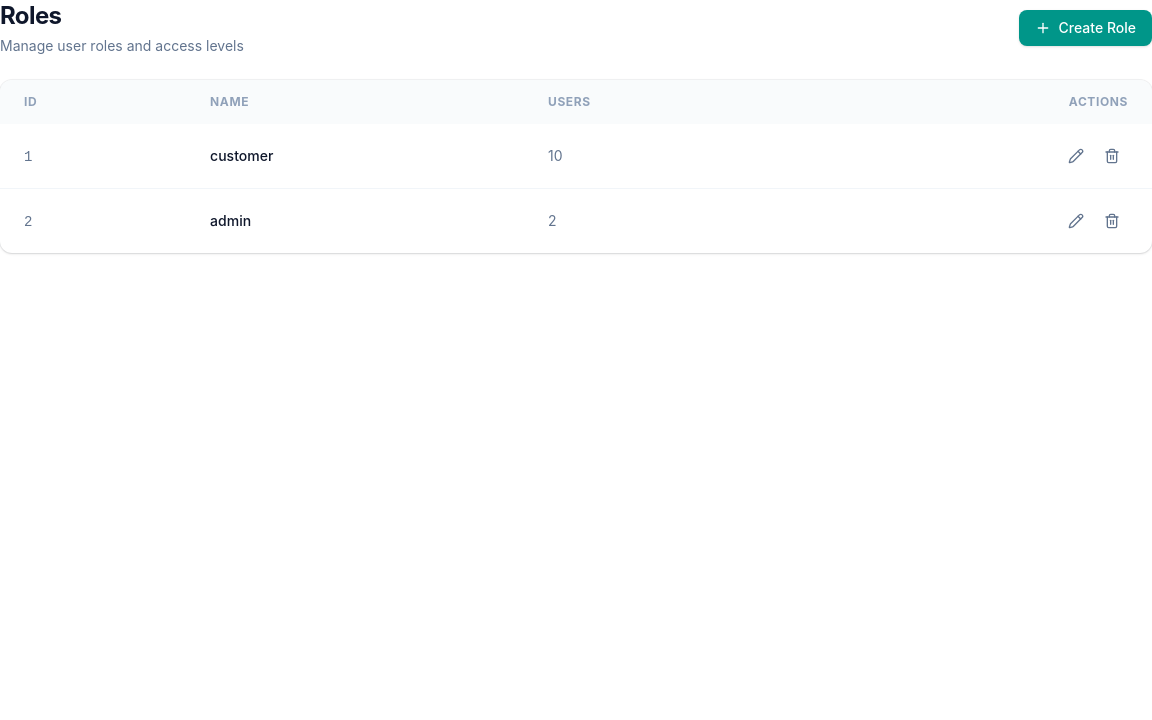
Scenario: AdminRoleListPage › should open create modal when Create Role is clicked
Click the button "Create Role": (1085, 28) x1=1019 y1=10 x2=1151 y2=46
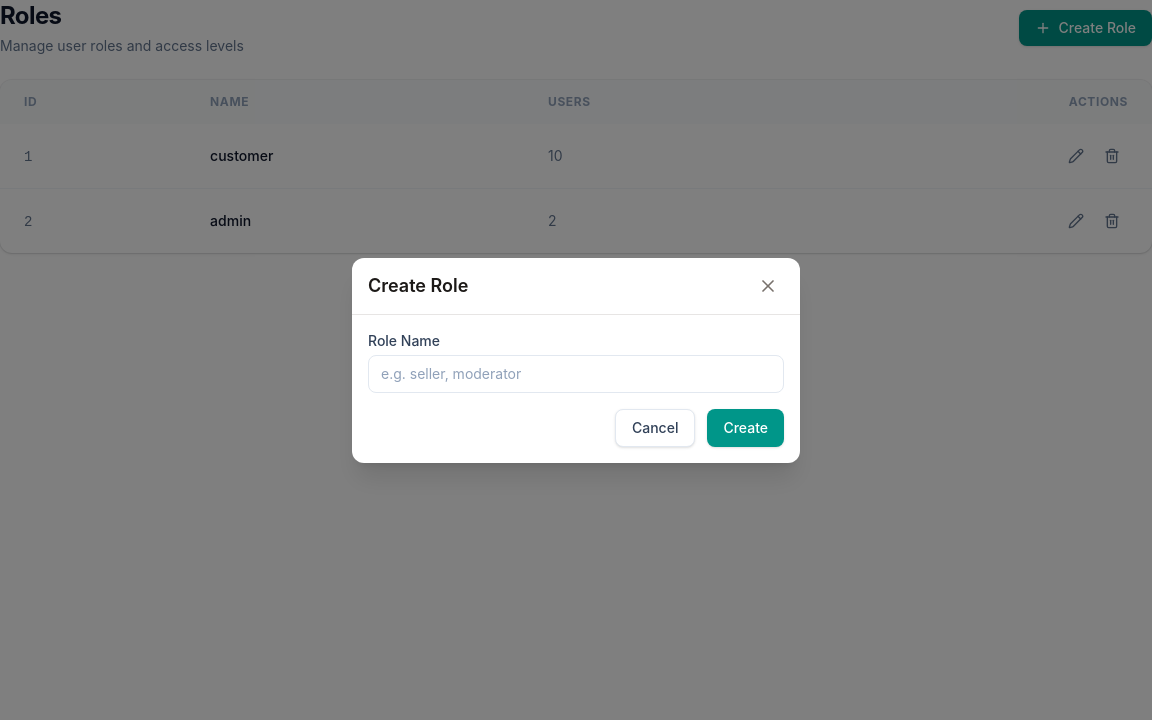
Check: the heading "Create Role" is shown, box x1=368 y1=272 x2=468 y2=300
